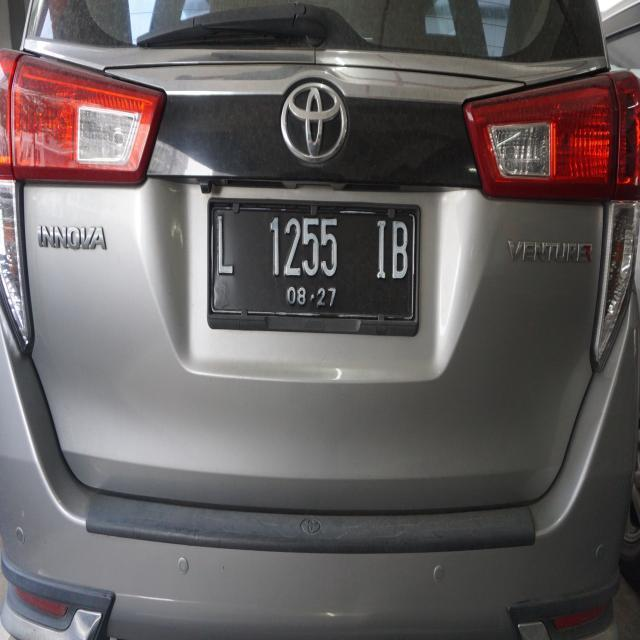1: (261, 208, 285, 278)
2: (278, 207, 302, 282)
5: (298, 212, 322, 277), (318, 211, 340, 281)
B: (388, 213, 412, 284)
I: (365, 214, 388, 294)
L: (212, 202, 238, 284)
